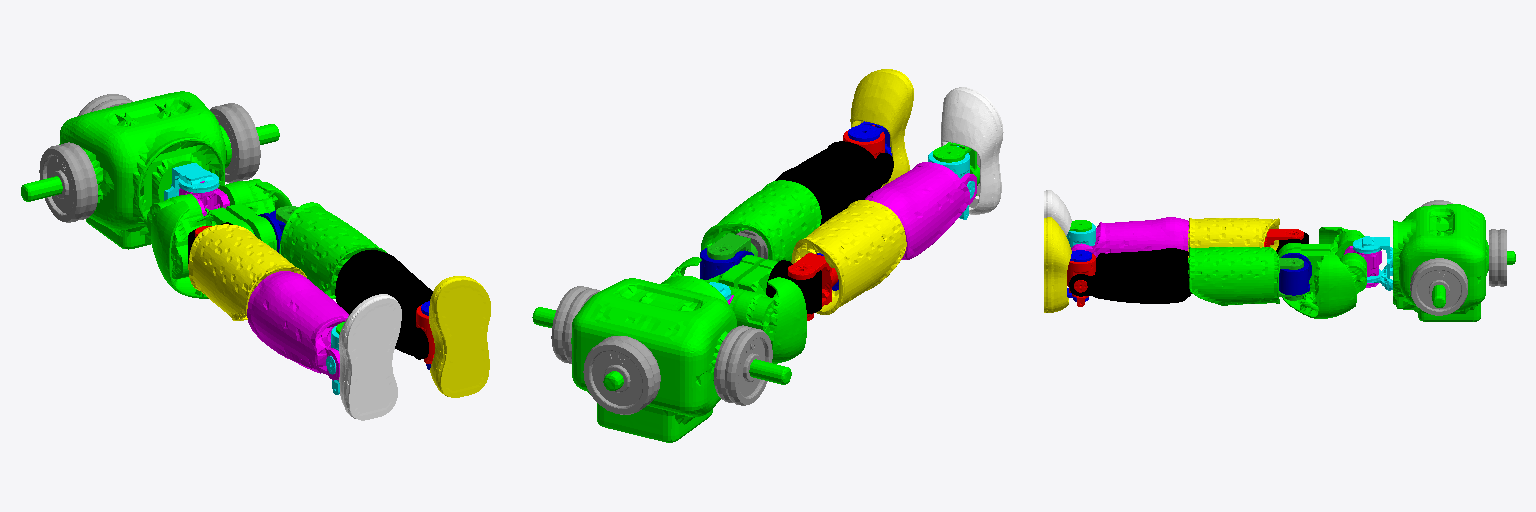
--- What the picture shows (computed from the rendered views, not written in the file) ---
Views: 3 orthographic renders of the robot side by side, from view 1: azimuth 30°, elevation 25°; view 2: azimuth 150°, elevation 25°; view 3: azimuth 270°, elevation 25°.
Model iCubHeidelberg01_SIM_MODEL with 72 links and 71 joints (15 revolute, 56 fixed), rooted at root_link, posed all joints at 0.
Links seen in each view (by area): view 1: chest, r_shank, root_link, l_foot, r_foot, r_thigh, l_shank, l_thigh, WEIGHT-1KG-5, WEIGHT-1KG, lap_belt_2, WEIGHT-1KG-4 (+2 smaller); view 2: chest, r_thigh, root_link, r_shank, l_thigh, l_shank, r_foot, l_foot, WEIGHT-1KG-3, WEIGHT-1KG-5, r_hip_2, r_hip_1 (+9 smaller); view 3: chest, l_shank, l_thigh, root_link, r_shank, r_thigh, WEIGHT-1KG-1, l_foot, lap_belt_2, l_hip_1, r_foot, l_ankle.
Link boxes in pixels (x1,y1,x2,y2): chest: (21, 91, 279, 249); r_shank: (247, 271, 348, 380); root_link: (147, 179, 291, 298); l_foot: (429, 276, 490, 397); r_foot: (338, 294, 401, 420); r_thigh: (188, 224, 306, 320); l_shank: (335, 250, 432, 359); l_thigh: (279, 202, 386, 298); WEIGHT-1KG-5: (39, 145, 87, 222); WEIGHT-1KG: (210, 105, 249, 182); lap_belt_2: (164, 163, 219, 200); WEIGHT-1KG-4: (61, 142, 97, 219); chest: (532, 276, 791, 442); r_thigh: (791, 200, 906, 314); root_link: (668, 255, 806, 363); r_shank: (865, 162, 976, 259); l_thigh: (700, 180, 821, 261); l_shank: (775, 141, 893, 225); r_foot: (941, 87, 1003, 214); l_foot: (850, 69, 913, 187); WEIGHT-1KG-3: (583, 340, 654, 414); WEIGHT-1KG-5: (725, 328, 772, 405); r_hip_2: (788, 253, 838, 320); r_hip_1: (766, 260, 821, 313); chest: (1393, 204, 1515, 321); l_shank: (1069, 248, 1191, 303); l_thigh: (1188, 247, 1279, 305); root_link: (1278, 227, 1366, 318); r_shank: (1071, 217, 1188, 257); r_thigh: (1188, 218, 1279, 257); WEIGHT-1KG-1: (1410, 262, 1467, 315); l_foot: (1044, 217, 1071, 312); lap_belt_2: (1353, 236, 1392, 290); l_hip_1: (1279, 253, 1311, 295); r_foot: (1044, 190, 1071, 235); l_ankle: (1067, 254, 1095, 306).
Bounding box of the posed robot: 0.44 × 0.9696 × 0.2347 m (x, y, z).
26 mesh visuals loaded from 21 distinct referenced files (21 Collada DAE).

robot.urdf — iCubHeidelberg01_SIM_MODEL:
<robot name="iCubHeidelberg01_SIM_MODEL">
  <link name="root_link">
    <inertial>
      <origin xyz="-0.000175548 -0.0820671 -0.0679103" rpy="0 0 0"/>
      <mass value="4.55132"/>
      <inertia ixx="0.0133835" ixy="3.22057e-05" ixz="-6.77957e-05" iyy="0.0178931" iyz="-0.00175809" izz="0.020903"/>
    </inertial>
    <visual>
      <origin xyz="0 0 0" rpy="0 0 0"/>
      <geometry>
        <mesh filename="model://iCubHeidelberg01_model/dae_meshes/sim_sea_root_link_prt.dae" scale="0.001 0.001 0.001"/>
      </geometry>
      <material name="green">
        <color rgba="0 1 0 1"/>
      </material>
    </visual>
    <collision>
      <origin xyz="0 0 0" rpy="0 0 0"/>
      <geometry>
        <mesh filename="model://iCubHeidelberg01_model/dae_meshes/sim_sea_root_link_prt.dae" scale="0.001 0.001 0.001"/>
      </geometry>
    </collision>
  </link>
  <link name="SCSYS_EMS_ACCEL"/>
  <joint name="SCSYS_EMS_ACCEL_fixed_joint" type="fixed">
    <origin xyz="0.0125771 -0.147691 -0.0857308" rpy="3.14159265359 -0.279252281769 -1.57079632679"/>
    <parent link="root_link"/>
    <child link="SCSYS_EMS_ACCEL"/>
    <dynamics damping="0.1"/>
  </joint>
  <link name="SCSYS_EMS_GYRO"/>
  <joint name="SCSYS_EMS_GYRO_fixed_joint" type="fixed">
    <origin xyz="0.013081 -0.152086 -0.0844705" rpy="3.14159265359 -0.279252281769 -1.57079632679"/>
    <parent link="root_link"/>
    <child link="SCSYS_EMS_GYRO"/>
    <dynamics damping="0.1"/>
  </joint>
  <link name="SCSYS_EMS_GYRO_1"/>
  <joint name="SCSYS_EMS_GYRO_1_fixed_joint" type="fixed">
    <origin xyz="0.013081 -0.152086 -0.0844705" rpy="3.14159265359 -0.279252281769 -1.57079632679"/>
    <parent link="root_link"/>
    <child link="SCSYS_EMS_GYRO_1"/>
    <dynamics damping="0.1"/>
  </joint>
  <link name="SCSYS_EMS_ACCEL_1"/>
  <joint name="SCSYS_EMS_ACCEL_1_fixed_joint" type="fixed">
    <origin xyz="0.013081 -0.152086 -0.0844705" rpy="3.14159265359 -0.279252281769 -1.57079632679"/>
    <parent link="root_link"/>
    <child link="SCSYS_EMS_ACCEL_1"/>
    <dynamics damping="0.1"/>
  </joint>
  <link name="r_hip_1">
    <inertial>
      <origin xyz="-0.0344199 -2.6e-05 -0.0002121" rpy="0 0 0"/>
      <mass value="0.610394"/>
      <inertia ixx="0.000304601" ixy="7.97583e-07" ixz="-2.29911e-07" iyy="0.000454222" iyz="1.14938e-06" izz="0.000453573"/>
    </inertial>
    <visual>
      <origin xyz="0.0262461 0.151913 0.0428515000001" rpy="0 0 0"/>
      <geometry>
        <mesh filename="model://iCubHeidelberg01_model/dae_meshes/sim_sea_r_hip_1_prt.dae" scale="0.001 0.001 0.001"/>
      </geometry>
      <material name="black">
        <color rgba="0 0 0 1"/>
      </material>
    </visual>
    <collision>
      <origin xyz="0.0262461 0.151913 0.0428515000001" rpy="0 0 0"/>
      <geometry>
        <mesh filename="model://iCubHeidelberg01_model/dae_meshes/sim_sea_r_hip_1_prt.dae" scale="0.001 0.001 0.001"/>
      </geometry>
    </collision>
  </link>
  <joint name="r_hip_pitch" type="revolute">
    <origin xyz="-0.0262461 -0.151913 -0.0428515" rpy="0 0 0"/>
    <axis xyz="-1.0 -0.0 -0.0"/>
    <parent link="root_link"/>
    <child link="r_hip_1"/>
    <limit effort="50000" lower="-0.523598775598" upper="1.4835298642" velocity="50000"/>
    <dynamics damping="0.223"/>
  </joint>
  <link name="r_hip_2">
    <inertial>
      <origin xyz="-1.5e-06 -0.03665 0.0231604" rpy="0 0 0"/>
      <mass value="0.292811"/>
      <inertia ixx="0.000410194" ixy="1.58042e-08" ixz="6.95352e-09" iyy="0.000232087" iyz="2.60468e-05" izz="0.000252169"/>
    </inertial>
    <visual>
      <origin xyz="0.0701 0.151913 0.0690985998094" rpy="0 0 0"/>
      <geometry>
        <mesh filename="model://iCubHeidelberg01_model/dae_meshes/sim_sea_r_hip_2_prt.dae" scale="0.001 0.001 0.001"/>
      </geometry>
      <material name="red">
        <color rgba="1 0 0 1"/>
      </material>
    </visual>
    <collision>
      <origin xyz="0.0701 0.151913 0.0690985998094" rpy="0 0 0"/>
      <geometry>
        <mesh filename="model://iCubHeidelberg01_model/dae_meshes/sim_sea_r_hip_2_prt.dae" scale="0.001 0.001 0.001"/>
      </geometry>
    </collision>
  </link>
  <joint name="r_hip_roll" type="revolute">
    <origin xyz="-0.0438539 0 -0.0262471" rpy="0 0 0"/>
    <axis xyz="0.0 0.0 -1.0"/>
    <parent link="r_hip_1"/>
    <child link="r_hip_2"/>
    <limit effort="50000" lower="0.0" upper="1.57079632679" velocity="50000"/>
    <dynamics damping="0.223"/>
  </joint>
  <link name="r_upper_thigh">
    <inertial>
      <origin xyz="-0.0699184 -0.234474 -0.0438122998094" rpy="0 0 0"/>
      <mass value="0.122687"/>
      <inertia ixx="3.09316e-05" ixy="2.08202e-07" ixz="-1.99589e-08" iyy="5.53314e-05" iyz="9.22295e-09" izz="3.08107e-05"/>
    </inertial>
    <visual>
      <origin xyz="0 0 0" rpy="0 0 0"/>
      <geometry>
        <mesh filename="model://iCubHeidelberg01_model/dae_meshes/sim_sea_r_upper_thigh_prt.dae" scale="0.001 0.001 0.001"/>
      </geometry>
      <material name="blue">
        <color rgba="0 0 1 1"/>
      </material>
    </visual>
    <collision>
      <origin xyz="0 0 0" rpy="0 0 0"/>
      <geometry>
        <mesh filename="model://iCubHeidelberg01_model/dae_meshes/sim_sea_r_upper_thigh_prt.dae" scale="0.001 0.001 0.001"/>
      </geometry>
    </collision>
  </link>
  <joint name="r_leg_ft_sensor" type="fixed">
    <origin xyz="0.0701 0.151913 0.0690985998094" rpy="0 0 0"/>
    <parent link="r_hip_2"/>
    <child link="r_upper_thigh"/>
    <dynamics damping="0.1"/>
  </joint>
  <link name="r_thigh">
    <inertial>
      <origin xyz="-0.0001448 -0.065088 0.0091078" rpy="0 0 0"/>
      <mass value="2.82909"/>
      <inertia ixx="0.00961828" ixy="0.000277522" ixz="7.45373e-06" iyy="0.00385108" iyz="-0.000180645" izz="0.00968964"/>
    </inertial>
    <visual>
      <origin xyz="0.0701 0.241013 0.0437089998094" rpy="0 0 0"/>
      <geometry>
        <mesh filename="model://iCubHeidelberg01_model/dae_meshes/sim_sea_r_thigh_prt.dae" scale="0.001 0.001 0.001"/>
      </geometry>
      <material name="yellow">
        <color rgba="1 1 0 1"/>
      </material>
    </visual>
    <collision>
      <origin xyz="0.0701 0.241013 0.0437089998094" rpy="0 0 0"/>
      <geometry>
        <mesh filename="model://iCubHeidelberg01_model/dae_meshes/sim_sea_r_thigh_prt.dae" scale="0.001 0.001 0.001"/>
      </geometry>
    </collision>
  </link>
  <joint name="r_hip_yaw" type="revolute">
    <origin xyz="-0.0701 -0.244213 -0.0437089998094" rpy="0 0 0"/>
    <axis xyz="0.0 -1.0 0.0"/>
    <parent link="r_upper_thigh"/>
    <child link="r_thigh"/>
    <limit effort="50000" lower="-1.2217304764" upper="1.2217304764" velocity="50000"/>
    <dynamics damping="0.223"/>
  </joint>
  <link name="SCSYS_EMS_ACCEL0"/>
  <joint name="SCSYS_EMS_ACCEL0_fixed_joint" type="fixed">
    <origin xyz="0.0404072 -0.040027 -0.0125751" rpy="1.57079632679 0 1.57079632679"/>
    <parent link="r_thigh"/>
    <child link="SCSYS_EMS_ACCEL0"/>
    <dynamics damping="0.1"/>
  </joint>
  <link name="SCSYS_EMS_GYRO0"/>
  <joint name="SCSYS_EMS_GYRO0_fixed_joint" type="fixed">
    <origin xyz="0.0404072 -0.035455 -0.013079" rpy="1.57079632679 0 1.57079632679"/>
    <parent link="r_thigh"/>
    <child link="SCSYS_EMS_GYRO0"/>
    <dynamics damping="0.1"/>
  </joint>
  <link name="SCSYS_EMS_ACCEL_10"/>
  <joint name="SCSYS_EMS_ACCEL_10_fixed_joint" type="fixed">
    <origin xyz="-0.040407 -0.083207 -0.0125771" rpy="1.57079632679 0 -1.57079632679"/>
    <parent link="r_thigh"/>
    <child link="SCSYS_EMS_ACCEL_10"/>
    <dynamics damping="0.1"/>
  </joint>
  <link name="SCSYS_EMS_GYRO_10"/>
  <joint name="SCSYS_EMS_GYRO_10_fixed_joint" type="fixed">
    <origin xyz="-0.040407 -0.087779 -0.013081" rpy="1.57079632679 0 -1.57079632679"/>
    <parent link="r_thigh"/>
    <child link="SCSYS_EMS_GYRO_10"/>
    <dynamics damping="0.1"/>
  </joint>
  <link name="SCSYS_MTB_ACCEL"/>
  <joint name="SCSYS_MTB_ACCEL_fixed_joint" type="fixed">
    <origin xyz="0.0414996 -0.011459 0.03416985" rpy="-1.18682376736 0.000365167547861 -1.57082213412"/>
    <parent link="r_thigh"/>
    <child link="SCSYS_MTB_ACCEL"/>
    <dynamics damping="0.1"/>
  </joint>
  <link name="SCSYS_MTB_ACCEL_1"/>
  <joint name="SCSYS_MTB_ACCEL_1_fixed_joint" type="fixed">
    <origin xyz="0.0162386 -0.026366 -0.0437518" rpy="3.14159260377 0.000429089990404 -1.57091243007"/>
    <parent link="r_thigh"/>
    <child link="SCSYS_MTB_ACCEL_1"/>
    <dynamics damping="0.1"/>
  </joint>
  <link name="SCSYS_MTB_ACCEL_2"/>
  <joint name="SCSYS_MTB_ACCEL_2_fixed_joint" type="fixed">
    <origin xyz="-0.0157594 -0.026365 -0.0437518" rpy="3.14159265359 0.000429089993416 -1.57079632679"/>
    <parent link="r_thigh"/>
    <child link="SCSYS_MTB_ACCEL_2"/>
    <dynamics damping="0.1"/>
  </joint>
  <link name="SCSYS_MTB_ACCEL_3"/>
  <joint name="SCSYS_MTB_ACCEL_3_fixed_joint" type="fixed">
    <origin xyz="-0.049485 -0.064411 0.0117282" rpy="1.57079632679 0.000312931026869 -1.57079632679"/>
    <parent link="r_thigh"/>
    <child link="SCSYS_MTB_ACCEL_3"/>
    <dynamics damping="0.1"/>
  </joint>
  <link name="SCSYS_MTB_ACCEL_4"/>
  <joint name="SCSYS_MTB_ACCEL_4_fixed_joint" type="fixed">
    <origin xyz="-0.031565 0.042526 0.04206438" rpy="0.837758053214 0.000342816436844 -1.57071863125"/>
    <parent link="r_thigh"/>
    <child link="SCSYS_MTB_ACCEL_4"/>
    <dynamics damping="0.1"/>
  </joint>
  <link name="SCSYS_MTB_ACCEL_5"/>
  <joint name="SCSYS_MTB_ACCEL_5_fixed_joint" type="fixed">
    <origin xyz="-0.0083839 0.032642 0.05341396" rpy="0.26179934248 0.000399026344981 -1.5706841771"/>
    <parent link="r_thigh"/>
    <child link="SCSYS_MTB_ACCEL_5"/>
    <dynamics damping="0.1"/>
  </joint>
  <link name="SCSYS_MTB_ACCEL_6"/>
  <joint name="SCSYS_MTB_ACCEL_6_fixed_joint" type="fixed">
    <origin xyz="-0.0150686 -0.002429 0.0538284" rpy="0 0.000429089990404 -1.57068022352"/>
    <parent link="r_thigh"/>
    <child link="SCSYS_MTB_ACCEL_6"/>
    <dynamics damping="0.1"/>
  </joint>
  <link name="SCSYS_MTB_ACCEL_7"/>
  <joint name="SCSYS_MTB_ACCEL_7_fixed_joint" type="fixed">
    <origin xyz="0.0144314 -0.002429 0.0538284" rpy="0 0.000429089990404 -1.57068022352"/>
    <parent link="r_thigh"/>
    <child link="SCSYS_MTB_ACCEL_7"/>
    <dynamics damping="0.1"/>
  </joint>
  <link name="r_shank">
    <inertial>
      <origin xyz="0.0120744 -0.083027 0.0073589" rpy="0 0 0"/>
      <mass value="3.31111"/>
      <inertia ixx="0.0108069" ixy="0.000604622" ixz="5.98023e-06" iyy="0.00495004" iyz="-0.000693558" izz="0.0116311"/>
    </inertial>
    <visual>
      <origin xyz="0.0841895 0.386638 0.0437089998094" rpy="0 0 0"/>
      <geometry>
        <mesh filename="model://iCubHeidelberg01_model/dae_meshes/sim_sea_r_shank_prt.dae" scale="0.001 0.001 0.001"/>
      </geometry>
      <material name="pink">
        <color rgba="1 0 1 1"/>
      </material>
    </visual>
    <collision>
      <origin xyz="0.0841895 0.386638 0.0437089998094" rpy="0 0 0"/>
      <geometry>
        <mesh filename="model://iCubHeidelberg01_model/dae_meshes/sim_sea_r_shank_prt.dae" scale="0.001 0.001 0.001"/>
      </geometry>
    </collision>
  </link>
  <joint name="r_knee" type="revolute">
    <origin xyz="-0.0178895 -0.145625 0" rpy="0 0 0"/>
    <axis xyz="-1.0 0.0 0.0"/>
    <parent link="r_thigh"/>
    <child link="r_shank"/>
    <limit effort="50000" lower="-1.74532925199" upper="0.0" velocity="50000"/>
    <dynamics damping="0.223"/>
  </joint>
  <link name="SCSYS_EMS_ACCEL1"/>
  <joint name="SCSYS_EMS_ACCEL1_fixed_joint" type="fixed">
    <origin xyz="0.0279291 -0.092765 0.04351373" rpy="0 -0.218166543341 1.57079632679"/>
    <parent link="r_shank"/>
    <child link="SCSYS_EMS_ACCEL1"/>
    <dynamics damping="0.1"/>
  </joint>
  <link name="SCSYS_EMS_GYRO1"/>
  <joint name="SCSYS_EMS_GYRO1_fixed_joint" type="fixed">
    <origin xyz="0.028433 -0.088301 0.044503292" rpy="0 -0.218166543341 1.57079632679"/>
    <parent link="r_shank"/>
    <child link="SCSYS_EMS_GYRO1"/>
    <dynamics damping="0.1"/>
  </joint>
  <link name="SCSYS_MTB_ACCEL0"/>
  <joint name="SCSYS_MTB_ACCEL0_fixed_joint" type="fixed">
    <origin xyz="0.0278886 -0.010933 0.0544518" rpy="-0.349065638037 3.9709492862e-05 -1.57068722577"/>
    <parent link="r_shank"/>
    <child link="SCSYS_MTB_ACCEL0"/>
    <dynamics damping="0.1"/>
  </joint>
  <link name="SCSYS_MTB_ACCEL_10"/>
  <joint name="SCSYS_MTB_ACCEL_10_fixed_joint" type="fixed">
    <origin xyz="-0.0030927 -0.010933 0.05313395" rpy="0.244346164411 -2.808784262e-05 -1.57068367232"/>
    <parent link="r_shank"/>
    <child link="SCSYS_MTB_ACCEL_10"/>
    <dynamics damping="0.1"/>
  </joint>
  <link name="SCSYS_MTB_ACCEL_20"/>
  <joint name="SCSYS_MTB_ACCEL_20_fixed_joint" type="fixed">
    <origin xyz="-0.0286545 -0.050082 0.0259155" rpy="1.30899714456 -0.000143911236881 -1.57075776595"/>
    <parent link="r_shank"/>
    <child link="SCSYS_MTB_ACCEL_20"/>
    <dynamics damping="0.1"/>
  </joint>
  <link name="SCSYS_MTB_ACCEL_30"/>
  <joint name="SCSYS_MTB_ACCEL_30_fixed_joint" type="fixed">
    <origin xyz="0.0558086 -0.099573 0.0184576" rpy="-1.30899714532 0.000112146780783 -1.57076627686"/>
    <parent link="r_shank"/>
    <child link="SCSYS_MTB_ACCEL_30"/>
    <dynamics damping="0.1"/>
  </joint>
  <link name="r_ankle">
    <inertial>
      <origin xyz="0.0265327 7.4e-05 0.0150166" rpy="0 0 0"/>
      <mass value="0.554181"/>
      <inertia ixx="0.000368295" ixy="2.92938e-07" ixz="-1.37313e-05" iyy="0.000414394" iyz="1.75709e-06" izz="0.00028171"/>
    </inertial>
    <visual>
      <origin xyz="0.09712 0.587138 0.0437089998094" rpy="0 0 0"/>
      <geometry>
        <mesh filename="model://iCubHeidelberg01_model/dae_meshes/sim_sea_r_ankle_prt.dae" scale="0.001 0.001 0.001"/>
      </geometry>
      <material name="cyan">
        <color rgba="0 1 1 1"/>
      </material>
    </visual>
    <collision>
      <origin xyz="0.09712 0.587138 0.0437089998094" rpy="0 0 0"/>
      <geometry>
        <mesh filename="model://iCubHeidelberg01_model/dae_meshes/sim_sea_r_ankle_prt.dae" scale="0.001 0.001 0.001"/>
      </geometry>
    </collision>
  </link>
  <joint name="r_ankle_pitch" type="revolute">
    <origin xyz="-0.0129305 -0.2005 0" rpy="0 0 0"/>
    <axis xyz="1.0 0.0 0.0"/>
    <parent link="r_shank"/>
    <child link="r_ankle"/>
    <limit effort="50000" lower="-0.349065850399" upper="0.523598775598" velocity="50000"/>
    <dynamics damping="0.223"/>
  </joint>
  <link name="r_upper_foot">
    <inertial>
      <origin xyz="2.1e-06 -0.03381 -0.044405867" rpy="0 0 0"/>
      <mass value="0.224797"/>
      <inertia ixx="0.000317712" ixy="0.0" ixz="9.41219e-09" iyy="0.000243566" iyz="1.32865e-05" izz="0.000132578"/>
    </inertial>
    <visual>
      <origin xyz="0.0701 0.587138 -0.000853467381356" rpy="0 0 0"/>
      <geometry>
        <mesh filename="model://iCubHeidelberg01_model/dae_meshes/sim_sea_r_foot_prt.dae" scale="0.001 0.001 0.001"/>
      </geometry>
      <material name="green"/>
    </visual>
    <collision>
      <origin xyz="0.0701 0.587138 -0.000853467381356" rpy="0 0 0"/>
      <geometry>
        <mesh filename="model://iCubHeidelberg01_model/dae_meshes/sim_sea_r_foot_prt.dae" scale="0.001 0.001 0.001"/>
      </geometry>
    </collision>
  </link>
  <joint name="r_ankle_roll" type="revolute">
    <origin xyz="0.02702 0 0.044562467" rpy="0 0 0"/>
    <axis xyz="-0.0 -0.0 -1.0"/>
    <parent link="r_ankle"/>
    <child link="r_upper_foot"/>
    <limit effort="50000" lower="-0.349065850399" upper="0.349065850399" velocity="50000"/>
    <dynamics damping="0.223"/>
  </joint>
  <link name="r_foot">
    <inertial>
      <origin xyz="-0.0752084 -0.648957 -0.0103374996186" rpy="0 0 0"/>
      <mass value="0.907917"/>
      <inertia ixx="0.00297466" ixy="8.70649e-07" ixz="-0.000138843" iyy="0.00344276" iyz="-1.76747e-05" izz="0.000681043"/>
    </inertial>
    <visual>
      <origin xyz="0 0 0" rpy="0 0 0"/>
      <geometry>
        <mesh filename="model://iCubHeidelberg01_model/dae_meshes/sim_sea_r_sole_prt.dae" scale="0.001 0.001 0.001"/>
      </geometry>
      <material name="white">
        <color rgba="1 1 1 1"/>
      </material>
    </visual>
    <collision>
      <origin xyz="0 0 0" rpy="0 0 0"/>
      <geometry>
        <mesh filename="model://iCubHeidelberg01_model/dae_meshes/sim_sea_r_sole_prt.dae" scale="0.001 0.001 0.001"/>
      </geometry>
    </collision>
  </link>
  <joint name="r_foot_ft_sensor" type="fixed">
    <origin xyz="0.0701 0.587138 -0.000853467381377" rpy="0 0 0"/>
    <parent link="r_upper_foot"/>
    <child link="r_foot"/>
    <dynamics damping="0.1"/>
  </joint>
  <link name="SCSYS_MTB_ACCEL1"/>
  <joint name="SCSYS_MTB_ACCEL1_fixed_joint" type="fixed">
    <origin xyz="-0.069293 -0.646223 0.0562654003814" rpy="1.57079632679 0 0"/>
    <parent link="r_foot"/>
    <child link="SCSYS_MTB_ACCEL1"/>
    <dynamics damping="0.1"/>
  </joint>
  <link name="SCSYS_MTB_ACCEL_11"/>
  <joint name="SCSYS_MTB_ACCEL_11_fixed_joint" type="fixed">
    <origin xyz="-0.0582928 -0.646223 0.0312654003814" rpy="1.57079632679 0 0"/>
    <parent link="r_foot"/>
    <child link="SCSYS_MTB_ACCEL_11"/>
    <dynamics damping="0.1"/>
  </joint>
  <link name="l_hip_1">
    <inertial>
      <origin xyz="-0.086666 -2.60000000002e-05 0.0002121" rpy="0 0 0"/>
      <mass value="0.610394"/>
      <inertia ixx="0.000304601" ixy="7.97583e-07" ixz="-2.29911e-07" iyy="0.000454222" iyz="1.14938e-06" izz="0.000453573"/>
    </inertial>
    <visual>
      <origin xyz="-0.026 0.151913 -0.0428515" rpy="0 0 0"/>
      <geometry>
        <mesh filename="model://iCubHeidelberg01_model/dae_meshes/sim_sea_l_hip_1_prt.dae" scale="0.001 0.001 0.001"/>
      </geometry>
      <material name="dblue">
        <color rgba="0 0 0.8 1"/>
      </material>
    </visual>
    <collision>
      <origin xyz="-0.026 0.151913 -0.0428515" rpy="0 0 0"/>
      <geometry>
        <mesh filename="model://iCubHeidelberg01_model/dae_meshes/sim_sea_l_hip_1_prt.dae" scale="0.001 0.001 0.001"/>
      </geometry>
    </collision>
  </link>
  <joint name="l_hip_pitch" type="revolute">
    <origin xyz="-0.026 -0.151913 -0.0428515" rpy="3.14159265359 0 3.14159265359"/>
    <axis xyz="1.0 0.0 0.0"/>
    <parent link="root_link"/>
    <child link="l_hip_1"/>
    <limit effort="50000" lower="-0.523598775598" upper="1.4835298642" velocity="50000"/>
    <dynamics damping="0.223"/>
  </joint>
  <link name="l_hip_2">
    <inertial>
      <origin xyz="-1.5e-06 -0.03665 -0.0231604" rpy="0 0 0"/>
      <mass value="0.292811"/>
      <inertia ixx="0.000410194" ixy="1.58042e-08" ixz="6.95352e-09" iyy="0.000232087" iyz="2.60468e-05" izz="0.000252169"/>
    </inertial>
    <visual>
      <origin xyz="0.0701 0.151913 -0.0690985998093" rpy="0 0 0"/>
      <geometry>
        <mesh filename="model://iCubHeidelberg01_model/dae_meshes/sim_sea_l_hip_2_prt.dae" scale="0.001 0.001 0.001"/>
      </geometry>
      <material name="dgreen">
        <color rgba="0.1 0.8 0.1 1"/>
      </material>
    </visual>
    <collision>
      <origin xyz="0.0701 0.151913 -0.0690985998093" rpy="0 0 0"/>
      <geometry>
        <mesh filename="model://iCubHeidelberg01_model/dae_meshes/sim_sea_l_hip_2_prt.dae" scale="0.001 0.001 0.001"/>
      </geometry>
    </collision>
  </link>
  <joint name="l_hip_roll" type="revolute">
    <origin xyz="-0.0961 0 0.0262471" rpy="0 0 0"/>
    <axis xyz="-0.0 1.26404e-12 -1.0"/>
    <parent link="l_hip_1"/>
    <child link="l_hip_2"/>
    <limit effort="50000" lower="0.0" upper="1.57079632679" velocity="50000"/>
    <dynamics damping="0.223"/>
  </joint>
  <link name="l_upper_thigh">
    <inertial>
      <origin xyz="-0.0699184 -0.234474 0.0438122998092" rpy="0 0 0"/>
      <mass value="0.122687"/>
      <inertia ixx="3.09316e-05" ixy="2.08202e-07" ixz="-1.99589e-08" iyy="5.53314e-05" iyz="9.22295e-09" izz="3.08107e-05"/>
    </inertial>
    <visual>
      <origin xyz="0 0 0" rpy="0 0 0"/>
      <geometry>
        <mesh filename="model://iCubHeidelberg01_model/dae_meshes/sim_sea_l_upper_thigh_prt.dae" scale="0.001 0.001 0.001"/>
      </geometry>
      <material name="gray">
        <color rgba="0.5 0.5 0.5 1"/>
      </material>
    </visual>
    <collision>
      <origin xyz="0 0 0" rpy="0 0 0"/>
      <geometry>
        <mesh filename="model://iCubHeidelberg01_model/dae_meshes/sim_sea_l_upper_thigh_prt.dae" scale="0.001 0.001 0.001"/>
      </geometry>
    </collision>
  </link>
  <joint name="l_leg_ft_sensor" type="fixed">
    <origin xyz="0.0701 0.151913 -0.0690985998093" rpy="0 0 0"/>
    <parent link="l_hip_2"/>
    <child link="l_upper_thigh"/>
    <dynamics damping="0.1"/>
  </joint>
  <link name="l_thigh">
    <inertial>
      <origin xyz="-0.0001448 -0.065088 -0.00910780000008" rpy="0 0 0"/>
      <mass value="2.82909"/>
      <inertia ixx="0.00961828" ixy="0.000277522" ixz="7.45373e-06" iyy="0.00385108" iyz="-0.000180645" izz="0.00968964"/>
    </inertial>
    <visual>
      <origin xyz="0.0701 0.241013 -0.0437089998092" rpy="0 0 0"/>
      <geometry>
        <mesh filename="model://iCubHeidelberg01_model/dae_meshes/sim_sea_l_thigh_prt.dae" scale="0.001 0.001 0.001"/>
      </geometry>
      <material name="green"/>
    </visual>
    <collision>
      <origin xyz="0.0701 0.241013 -0.0437089998092" rpy="0 0 0"/>
      <geometry>
        <mesh filename="model://iCubHeidelberg01_model/dae_meshes/sim_sea_l_thigh_prt.dae" scale="0.001 0.001 0.001"/>
      </geometry>
    </collision>
  </link>
  <joint name="l_hip_yaw" type="revolute">
    <origin xyz="-0.0701 -0.244213 0.0437089998092" rpy="0 0 0"/>
    <axis xyz="-0.0 1.0 1.22451e-12"/>
    <parent link="l_upper_thigh"/>
    <child link="l_thigh"/>
    <limit effort="50000" lower="-1.2217304764" upper="1.2217304764" velocity="50000"/>
    <dynamics damping="0.223"/>
  </joint>
  <link name="SCSYS_EMS_ACCEL2"/>
  <joint name="SCSYS_EMS_ACCEL2_fixed_joint" type="fixed">
    <origin xyz="0.0404072 -0.040027 0.0125751" rpy="-1.57079632679 0 1.57079632679"/>
    <parent link="l_thigh"/>
    <child link="SCSYS_EMS_ACCEL2"/>
    <dynamics damping="0.1"/>
  </joint>
  <link name="SCSYS_EMS_GYRO2"/>
  <joint name="SCSYS_EMS_GYRO2_fixed_joint" type="fixed">
    <origin xyz="0.0404072 -0.035455 0.013079" rpy="-1.57079632679 0 1.57079632679"/>
    <parent link="l_thigh"/>
    <child link="SCSYS_EMS_GYRO2"/>
    <dynamics damping="0.1"/>
  </joint>
  <link name="SCSYS_EMS_ACCEL_11"/>
  <joint name="SCSYS_EMS_ACCEL_11_fixed_joint" type="fixed">
    <origin xyz="-0.040407 -0.083207 0.0125770999999" rpy="-1.57079632679 0 -1.57079632679"/>
    <parent link="l_thigh"/>
    <child link="SCSYS_EMS_ACCEL_11"/>
    <dynamics damping="0.1"/>
  </joint>
  <link name="SCSYS_EMS_GYRO_11"/>
  <joint name="SCSYS_EMS_GYRO_11_fixed_joint" type="fixed">
    <origin xyz="-0.040407 -0.087779 0.0130809999999" rpy="-1.57079632679 0 -1.57079632679"/>
    <parent link="l_thigh"/>
    <child link="SCSYS_EMS_GYRO_11"/>
    <dynamics damping="0.1"/>
  </joint>
  <link name="SCSYS_MTB_ACCEL2"/>
  <joint name="SCSYS_MTB_ACCEL2_fixed_joint" type="fixed">
    <origin xyz="0.0414996 -0.011459 -0.03416985" rpy="1.18682376736 -0.000365167546644 -1.57082213412"/>
    <parent link="l_thigh"/>
    <child link="SCSYS_MTB_ACCEL2"/>
    <dynamics damping="0.1"/>
  </joint>
  <link name="SCSYS_MTB_ACCEL_12"/>
  <joint name="SCSYS_MTB_ACCEL_12_fixed_joint" type="fixed">
    <origin xyz="0.0162386 -0.0263660000001 0.0437518" rpy="-3.14159260377 -0.000429089989188 -1.57091243007"/>
    <parent link="l_thigh"/>
    <child link="SCSYS_MTB_ACCEL_12"/>
    <dynamics damping="0.1"/>
  </joint>
  <link name="SCSYS_MTB_ACCEL_21"/>
  <joint name="SCSYS_MTB_ACCEL_21_fixed_joint" type="fixed">
    <origin xyz="-0.0157594 -0.0263650000001 0.0437518" rpy="3.14159265359 -0.0004290899922 -1.57079632679"/>
    <parent link="l_thigh"/>
    <child link="SCSYS_MTB_ACCEL_21"/>
    <dynamics damping="0.1"/>
  </joint>
  <link name="SCSYS_MTB_ACCEL_31"/>
  <joint name="SCSYS_MTB_ACCEL_31_fixed_joint" type="fixed">
    <origin xyz="-0.049485 -0.064411 -0.0117282000001" rpy="-1.57079632679 -0.000312931025653 -1.57079632679"/>
    <parent link="l_thigh"/>
    <child link="SCSYS_MTB_ACCEL_31"/>
    <dynamics damping="0.1"/>
  </joint>
  <link name="SCSYS_MTB_ACCEL_40"/>
  <joint name="SCSYS_MTB_ACCEL_40_fixed_joint" type="fixed">
    <origin xyz="-0.031565 0.0425260000001 -0.0420643799999" rpy="-0.837758053858 -0.000342790748128 -1.57071863707"/>
    <parent link="l_thigh"/>
    <child link="SCSYS_MTB_ACCEL_40"/>
    <dynamics damping="0.1"/>
  </joint>
  <link name="SCSYS_MTB_ACCEL_50"/>
  <joint name="SCSYS_MTB_ACCEL_50_fixed_joint" type="fixed">
    <origin xyz="-0.0083839 0.0326420000001 -0.05341396" rpy="-0.26179934248 -0.000399026343764 -1.5706841771"/>
    <parent link="l_thigh"/>
    <child link="SCSYS_MTB_ACCEL_50"/>
    <dynamics damping="0.1"/>
  </joint>
  <link name="SCSYS_MTB_ACCEL_60"/>
  <joint name="SCSYS_MTB_ACCEL_60_fixed_joint" type="fixed">
    <origin xyz="-0.0150686 -0.00242899999993 -0.0538284" rpy="0 -0.000429089989188 -1.57068022352"/>
    <parent link="l_thigh"/>
    <child link="SCSYS_MTB_ACCEL_60"/>
    <dynamics damping="0.1"/>
  </joint>
  <link name="SCSYS_MTB_ACCEL_70"/>
  <joint name="SCSYS_MTB_ACCEL_70_fixed_joint" type="fixed">
    <origin xyz="0.0144314 -0.00242899999993 -0.0538284" rpy="0 -0.000429089989188 -1.57068022352"/>
    <parent link="l_thigh"/>
    <child link="SCSYS_MTB_ACCEL_70"/>
    <dynamics damping="0.1"/>
  </joint>
  <link name="l_shank">
    <inertial>
      <origin xyz="0.0120744 -0.083027 -0.0073589000001" rpy="0 0 0"/>
      <mass value="3.31111"/>
      <inertia ixx="0.0108069" ixy="0.000604622" ixz="5.98023e-06" iyy="0.00495004" iyz="-0.000693558" izz="0.0116311"/>
    </inertial>
    <visual>
      <origin xyz="0.0841895 0.386638 -0.043708999809" rpy="0 0 0"/>
      <geometry>
        <mesh filename="model://iCubHeidelberg01_model/dae_meshes/sim_sea_l_shank_prt.dae" scale="0.001 0.001 0.001"/>
      </geometry>
      <material name="black"/>
    </visual>
    <collision>
      <origin xyz="0.0841895 0.386638 -0.043708999809" rpy="0 0 0"/>
      <geometry>
        <mesh filename="model://iCubHeidelberg01_model/dae_meshes/sim_sea_l_shank_prt.dae" scale="0.001 0.001 0.001"/>
      </geometry>
    </collision>
  </link>
  <joint name="l_knee" type="revolute">
    <origin xyz="-0.0178895 -0.145625 0" rpy="0 0 0"/>
    <axis xyz="1.0 0.0 0.0"/>
    <parent link="l_thigh"/>
    <child link="l_shank"/>
    <limit effort="50000" lower="-1.74532925199" upper="0.0" velocity="50000"/>
    <dynamics damping="0.223"/>
  </joint>
  <link name="SCSYS_EMS_ACCEL3"/>
  <joint name="SCSYS_EMS_ACCEL3_fixed_joint" type="fixed">
    <origin xyz="0.0279291 -0.0927649999999 -0.0435137300001" rpy="0 0.21816654334 1.57079632679"/>
    <parent link="l_shank"/>
    <child link="SCSYS_EMS_ACCEL3"/>
    <dynamics damping="0.1"/>
  </joint>
  <link name="SCSYS_EMS_GYRO3"/>
  <joint name="SCSYS_EMS_GYRO3_fixed_joint" type="fixed">
    <origin xyz="0.028433 -0.0883009999999 -0.0445032920001" rpy="0 0.21816654334 1.57079632679"/>
    <parent link="l_shank"/>
    <child link="SCSYS_EMS_GYRO3"/>
    <dynamics damping="0.1"/>
  </joint>
  <link name="SCSYS_MTB_ACCEL3"/>
  <joint name="SCSYS_MTB_ACCEL3_fixed_joint" type="fixed">
    <origin xyz="0.0278886 -0.0109329999999 -0.0544518" rpy="0.349065638036 -3.97094922217e-05 -1.57068722577"/>
    <parent link="l_shank"/>
    <child link="SCSYS_MTB_ACCEL3"/>
    <dynamics damping="0.1"/>
  </joint>
  <link name="SCSYS_MTB_ACCEL_13"/>
  <joint name="SCSYS_MTB_ACCEL_13_fixed_joint" type="fixed">
    <origin xyz="-0.0030927 -0.0109329999999 -0.05313395" rpy="-0.244346164411 2.80878432373e-05 -1.57068367232"/>
    <parent link="l_shank"/>
    <child link="SCSYS_MTB_ACCEL_13"/>
    <dynamics damping="0.1"/>
  </joint>
  <link name="SCSYS_MTB_ACCEL_22"/>
  <joint name="SCSYS_MTB_ACCEL_22_fixed_joint" type="fixed">
    <origin xyz="-0.0286545 -0.050082 -0.0259155000001" rpy="-1.30899714456 0.000143911238098 -1.57075776595"/>
    <parent link="l_shank"/>
    <child link="SCSYS_MTB_ACCEL_22"/>
    <dynamics damping="0.1"/>
  </joint>
  <link name="SCSYS_MTB_ACCEL_32"/>
  <joint name="SCSYS_MTB_ACCEL_32_fixed_joint" type="fixed">
    <origin xyz="0.0558086 -0.099573 -0.0184576000001" rpy="1.30899714532 -0.000112146779566 -1.57076627686"/>
    <parent link="l_shank"/>
    <child link="SCSYS_MTB_ACCEL_32"/>
    <dynamics damping="0.1"/>
  </joint>
  <link name="l_ankle">
    <inertial>
      <origin xyz="0.0265327 7.40000000186e-05 -0.0150166" rpy="0 0 0"/>
      <mass value="0.554181"/>
      <inertia ixx="0.000368295" ixy="2.92938e-07" ixz="-1.37313e-05" iyy="0.000414394" iyz="1.75709e-06" izz="0.00028171"/>
    </inertial>
    <visual>
      <origin xyz="0.09712 0.587138 -0.0437089998087" rpy="0 0 0"/>
      <geometry>
        <mesh filename="model://iCubHeidelberg01_model/dae_meshes/sim_sea_l_ankle_prt.dae" scale="0.001 0.001 0.001"/>
      </geometry>
      <material name="red"/>
    </visual>
    <collision>
      <origin xyz="0.09712 0.587138 -0.0437089998087" rpy="0 0 0"/>
      <geometry>
        <mesh filename="model://iCubHeidelberg01_model/dae_meshes/sim_sea_l_ankle_prt.dae" scale="0.001 0.001 0.001"/>
      </geometry>
    </collision>
  </link>
  <joint name="l_ankle_pitch" type="revolute">
    <origin xyz="-0.0129305 -0.2005 0" rpy="0 0 0"/>
    <axis xyz="-1.0 0.0 0.0"/>
    <parent link="l_shank"/>
    <child link="l_ankle"/>
    <limit effort="50000" lower="-0.349065850399" upper="0.523598775598" velocity="50000"/>
    <dynamics damping="0.223"/>
  </joint>
  <link name="l_upper_foot">
    <inertial>
      <origin xyz="2.1e-06 -0.0338100000001 0.044405867" rpy="0 0 0"/>
      <mass value="0.224797"/>
      <inertia ixx="0.000317712" ixy="0.0" ixz="9.41219e-09" iyy="0.000243566" iyz="1.32865e-05" izz="0.000132578"/>
    </inertial>
    <visual>
      <origin xyz="0.0701 0.587138 0.000853467382004" rpy="0 0 0"/>
      <geometry>
        <mesh filename="model://iCubHeidelberg01_model/dae_meshes/sim_sea_l_foot_prt.dae" scale="0.001 0.001 0.001"/>
      </geometry>
      <material name="blue"/>
    </visual>
    <collision>
      <origin xyz="0.0701 0.587138 0.000853467382004" rpy="0 0 0"/>
      <geometry>
        <mesh filename="model://iCubHeidelberg01_model/dae_meshes/sim_sea_l_foot_prt.dae" scale="0.001 0.001 0.001"/>
      </geometry>
    </collision>
  </link>
  <joint name="l_ankle_roll" type="revolute">
    <origin xyz="0.02702 0 -0.044562467" rpy="0 0 0"/>
    <axis xyz="-0.0 1.23785e-12 -1.0"/>
    <parent link="l_ankle"/>
    <child link="l_upper_foot"/>
    <limit effort="50000" lower="-0.349065850399" upper="0.349065850399" velocity="50000"/>
    <dynamics damping="0.223"/>
  </joint>
  <link name="l_foot">
    <inertial>
      <origin xyz="-0.0752084 -0.648957 0.0103374996179" rpy="0 0 0"/>
      <mass value="0.907917"/>
      <inertia ixx="0.00297466" ixy="8.70649e-07" ixz="-0.000138843" iyy="0.00344276" iyz="-1.76747e-05" izz="0.000681043"/>
    </inertial>
    <visual>
      <origin xyz="0 0 0" rpy="0 0 0"/>
      <geometry>
        <mesh filename="model://iCubHeidelberg01_model/dae_meshes/sim_sea_l_sole_prt.dae" scale="0.001 0.001 0.001"/>
      </geometry>
      <material name="yellow"/>
    </visual>
    <collision>
      <origin xyz="0 0 0" rpy="0 0 0"/>
      <geometry>
        <mesh filename="model://iCubHeidelberg01_model/dae_meshes/sim_sea_l_sole_prt.dae" scale="0.001 0.001 0.001"/>
      </geometry>
    </collision>
  </link>
  <joint name="l_foot_ft_sensor" type="fixed">
    <origin xyz="0.0701 0.587138 0.000853467382024" rpy="0 0 0"/>
    <parent link="l_upper_foot"/>
    <child link="l_foot"/>
    <dynamics damping="0.1"/>
  </joint>
  <link name="SCSYS_MTB_ACCEL4"/>
  <joint name="SCSYS_MTB_ACCEL4_fixed_joint" type="fixed">
    <origin xyz="-0.069293 -0.646223 -0.0562654003821" rpy="-1.57079632679 0 0"/>
    <parent link="l_foot"/>
    <child link="SCSYS_MTB_ACCEL4"/>
    <dynamics damping="0.1"/>
  </joint>
  <link name="SCSYS_MTB_ACCEL_14"/>
  <joint name="SCSYS_MTB_ACCEL_14_fixed_joint" type="fixed">
    <origin xyz="-0.0582928 -0.646223 -0.0312654003821" rpy="-1.57079632679 0 0"/>
    <parent link="l_foot"/>
    <child link="SCSYS_MTB_ACCEL_14"/>
    <dynamics damping="0.1"/>
  </joint>
  <link name="lap_belt_1">
    <inertial>
      <origin xyz="0.039241235 0.0281103000005 -0.00332089999546" rpy="0 0 0"/>
      <mass value="0.479404"/>
      <inertia ixx="0.000332949" ixy="-2.39782e-06" ixz="3.60866e-07" iyy="0.000309732" iyz="1.13592e-05" izz="0.000223739"/>
    </inertial>
    <visual>
      <origin xyz="0.0393999998093 0.032 0.0364" rpy="0 0 0"/>
      <geometry>
        <mesh filename="model://iCubHeidelberg01_model/dae_meshes/sim_sea_lap_belt_1_prt.dae" scale="0.001 0.001 0.001"/>
      </geometry>
      <material name="pink"/>
    </visual>
    <collision>
      <origin xyz="0.0393999998093 0.032 0.0364" rpy="0 0 0"/>
      <geometry>
        <mesh filename="model://iCubHeidelberg01_model/dae_meshes/sim_sea_lap_belt_1_prt.dae" scale="0.001 0.001 0.001"/>
      </geometry>
    </collision>
  </link>
  <joint name="torso_pitch" type="revolute">
    <origin xyz="-0.0394 -0.032 -0.0364" rpy="0 0 0"/>
    <axis xyz="1.0 0.0 0.0"/>
    <parent link="root_link"/>
    <child link="lap_belt_1"/>
    <limit effort="50000" lower="-0.349065850399" upper="1.2217304764" velocity="50000"/>
    <dynamics damping="0.06"/>
  </joint>
  <link name="lap_belt_2">
    <inertial>
      <origin xyz="-0.000107779809265 0.0247916000001 0.053524900004" rpy="0 0 0"/>
      <mass value="0.327897"/>
      <inertia ixx="0.000531991" ixy="5.54439e-07" ixz="-2.83073e-07" iyy="0.00042219" iyz="2.9326e-05" izz="0.000303736"/>
    </inertial>
    <visual>
      <origin xyz="0 0 0.0902389999948" rpy="0 0 0"/>
      <geometry>
        <mesh filename="model://iCubHeidelberg01_model/dae_meshes/sim_kor_lap_belt_2_prt.dae" scale="0.001 0.001 0.001"/>
      </geometry>
      <material name="cyan"/>
    </visual>
    <collision>
      <origin xyz="0 0 0.0902389999948" rpy="0 0 0"/>
      <geometry>
        <mesh filename="model://iCubHeidelberg01_model/dae_meshes/sim_kor_lap_belt_2_prt.dae" scale="0.001 0.001 0.001"/>
      </geometry>
    </collision>
  </link>
  <joint name="torso_roll" type="revolute">
    <origin xyz="0.0393999998093 0.032 -0.0538389999948" rpy="0 0 0"/>
    <axis xyz="0.0 -1.61681e-10 -1.0"/>
    <parent link="lap_belt_1"/>
    <child link="lap_belt_2"/>
    <limit effort="50000" lower="-0.523598775598" upper="0.523598775598" velocity="50000"/>
    <dynamics damping="0.06"/>
  </joint>
  <link name="chest">
    <inertial>
      <origin xyz="-0.000635442809265 0.094882000002 -0.0123862999847" rpy="0 0 0"/>
      <mass value="9.71648"/>
      <inertia ixx="0.0489161" ixy="-6.26711e-05" ixz="-0.000115394" iyy="0.0629082" iyz="0.00259595" izz="0.0626678"/>
    </inertial>
    <visual>
      <origin xyz="0 -0.0519999999991 0.0308999999864" rpy="0 0 0"/>
      <geometry>
        <mesh filename="model://iCubHeidelberg01_model/dae_meshes/sim_kor_chest_prt.dae" scale="0.001 0.001 0.001"/>
      </geometry>
      <material name="green"/>
    </visual>
    <collision>
      <origin xyz="0 -0.0519999999991 0.0308999999864" rpy="0 0 0"/>
      <geometry>
        <mesh filename="model://iCubHeidelberg01_model/dae_meshes/sim_kor_chest_prt.dae" scale="0.001 0.001 0.001"/>
      </geometry>
    </collision>
  </link>
  <joint name="torso_yaw" type="revolute">
    <origin xyz="0 0.0519999999991 0.0593390000084" rpy="0 0 0"/>
    <axis xyz="0.0 -1.0 1.61681e-10"/>
    <parent link="lap_belt_2"/>
    <child link="chest"/>
    <limit effort="50000" lower="-0.872664625997" upper="0.872664625997" velocity="50000"/>
    <dynamics damping="0.06"/>
  </joint>
  <link name="imu_frame"/>
  <joint name="imu_frame_fixed_joint" type="fixed">
    <origin xyz="-0.0169999998093 0.100500000006 -0.0380999999838" rpy="3.14159265359 0 0"/>
    <parent link="chest"/>
    <child link="imu_frame"/>
    <dynamics damping="0.1"/>
  </joint>
  <link name="SCSYS_MTX_ACCEL_0"/>
  <joint name="SCSYS_MTX_ACCEL_0_fixed_joint" type="fixed">
    <origin xyz="-0.0169999998093 0.100500000006 -0.0380999999838" rpy="3.14159265359 0 0"/>
    <parent link="chest"/>
    <child link="SCSYS_MTX_ACCEL_0"/>
    <dynamics damping="0.1"/>
  </joint>
  <link name="WEIGHT-1KG-4">
    <inertial>
      <origin xyz="-1e-06 1.46e-05 -1e-06" rpy="0 0 0"/>
      <mass value="1.00161"/>
      <inertia ixx="0.0010891" ixy="3.14425e-08" ixz="0.0" iyy="0.00108866" iyz="4.73842e-08" izz="0.00213553"/>
    </inertial>
    <visual>
      <origin xyz="0 0 0" rpy="0 0 0"/>
      <geometry>
        <mesh filename="model://iCubHeidelberg01_model/dae_meshes/weight-1kg_prt.dae" scale="0.001 0.001 0.001"/>
      </geometry>
      <material name="WEIGHT-1KG-4_color">
        <color rgba="0.666667 0.666667 0.666667 1.0"/>
      </material>
    </visual>
    <collision>
      <origin xyz="0 0 0" rpy="0 0 0"/>
      <geometry>
        <mesh filename="model://iCubHeidelberg01_model/dae_meshes/weight-1kg_prt.dae" scale="0.001 0.001 0.001"/>
      </geometry>
    </collision>
  </link>
  <joint name="chest_weight_5" type="fixed">
    <origin xyz="-0.132249999809 0.0955 0" rpy="1.57079632679 0 1.57079632679"/>
    <parent link="chest"/>
    <child link="WEIGHT-1KG-4"/>
    <dynamics damping="0.1"/>
  </joint>
  <link name="WEIGHT-1KG-3">
    <inertial>
      <origin xyz="-1.137569265e-06 1.46000000002e-05 -9.99999997586e-07" rpy="0 0 0"/>
      <mass value="1.00161"/>
      <inertia ixx="0.0010891" ixy="3.14425e-08" ixz="0.0" iyy="0.00108866" iyz="4.73842e-08" izz="0.00213553"/>
    </inertial>
    <visual>
      <origin xyz="0 0 0" rpy="0 0 0"/>
      <geometry>
        <mesh filename="model://iCubHeidelberg01_model/dae_meshes/weight-1kg_prt.dae" scale="0.001 0.001 0.001"/>
      </geometry>
      <material name="WEIGHT-1KG-3_color">
        <color rgba="0.666667 0.666667 0.666667 1.0"/>
      </material>
    </visual>
    <collision>
      <origin xyz="0 0 0" rpy="0 0 0"/>
      <geometry>
        <mesh filename="model://iCubHeidelberg01_model/dae_meshes/weight-1kg_prt.dae" scale="0.001 0.001 0.001"/>
      </geometry>
    </collision>
  </link>
  <joint name="chest_weight_4" type="fixed">
    <origin xyz="0 0.22525 0" rpy="1.57079632679 0 0"/>
    <parent link="chest"/>
    <child link="WEIGHT-1KG-3"/>
    <dynamics damping="0.1"/>
  </joint>
  <link name="WEIGHT-1KG-5">
    <inertial>
      <origin xyz="-1e-06 1.46e-05 -1e-06" rpy="0 0 0"/>
      <mass value="1.00161"/>
      <inertia ixx="0.0010891" ixy="3.14425e-08" ixz="0.0" iyy="0.00108866" iyz="4.73842e-08" izz="0.00213553"/>
    </inertial>
    <visual>
      <origin xyz="0 0 0" rpy="0 0 0"/>
      <geometry>
        <mesh filename="model://iCubHeidelberg01_model/dae_meshes/weight-1kg_prt.dae" scale="0.001 0.001 0.001"/>
      </geometry>
      <material name="WEIGHT-1KG-5_color">
        <color rgba="0.666667 0.666667 0.666667 1.0"/>
      </material>
    </visual>
    <collision>
      <origin xyz="0 0 0" rpy="0 0 0"/>
      <geometry>
        <mesh filename="model://iCubHeidelberg01_model/dae_meshes/weight-1kg_prt.dae" scale="0.001 0.001 0.001"/>
      </geometry>
    </collision>
  </link>
  <joint name="chest_weight_6" type="fixed">
    <origin xyz="-0.150749999809 0.0955 0" rpy="1.57079632679 0 1.57079632679"/>
    <parent link="chest"/>
    <child link="WEIGHT-1KG-5"/>
    <dynamics damping="0.1"/>
  </joint>
  <link name="WEIGHT-1KG">
    <inertial>
      <origin xyz="-1.00000000003e-06 1.46e-05 -1e-06" rpy="0 0 0"/>
      <mass value="1.00161"/>
      <inertia ixx="0.0010891" ixy="3.14425e-08" ixz="0.0" iyy="0.00108866" iyz="4.73842e-08" izz="0.00213553"/>
    </inertial>
    <visual>
      <origin xyz="0 0 0" rpy="0 0 0"/>
      <geometry>
        <mesh filename="model://iCubHeidelberg01_model/dae_meshes/weight-1kg_prt.dae" scale="0.001 0.001 0.001"/>
      </geometry>
      <material name="WEIGHT-1KG_color">
        <color rgba="0.666667 0.666667 0.666667 1.0"/>
      </material>
    </visual>
    <collision>
      <origin xyz="0 0 0" rpy="0 0 0"/>
      <geometry>
        <mesh filename="model://iCubHeidelberg01_model/dae_meshes/weight-1kg_prt.dae" scale="0.001 0.001 0.001"/>
      </geometry>
    </collision>
  </link>
  <joint name="chest_weight_1" type="fixed">
    <origin xyz="0.132250000191 0.0955 0" rpy="1.57079632679 0 -1.57079632679"/>
    <parent link="chest"/>
    <child link="WEIGHT-1KG"/>
    <dynamics damping="0.1"/>
  </joint>
  <link name="WEIGHT-1KG-2">
    <inertial>
      <origin xyz="-1.137569265e-06 1.46000000002e-05 -9.99999997642e-07" rpy="0 0 0"/>
      <mass value="1.00161"/>
      <inertia ixx="0.0010891" ixy="3.14425e-08" ixz="0.0" iyy="0.00108866" iyz="4.73842e-08" izz="0.00213553"/>
    </inertial>
    <visual>
      <origin xyz="0 0 0" rpy="0 0 0"/>
      <geometry>
        <mesh filename="model://iCubHeidelberg01_model/dae_meshes/weight-1kg_prt.dae" scale="0.001 0.001 0.001"/>
      </geometry>
      <material name="WEIGHT-1KG-2_color">
        <color rgba="0.666667 0.666667 0.666667 1.0"/>
      </material>
    </visual>
    <collision>
      <origin xyz="0 0 0" rpy="0 0 0"/>
      <geometry>
        <mesh filename="model://iCubHeidelberg01_model/dae_meshes/weight-1kg_prt.dae" scale="0.001 0.001 0.001"/>
      </geometry>
    </collision>
  </link>
  <joint name="chest_weight_3" type="fixed">
    <origin xyz="0 0.20675 0" rpy="1.57079632679 0 0"/>
    <parent link="chest"/>
    <child link="WEIGHT-1KG-2"/>
    <dynamics damping="0.1"/>
  </joint>
  <link name="WEIGHT-1KG-1">
    <inertial>
      <origin xyz="-1.00000000003e-06 1.46e-05 -1e-06" rpy="0 0 0"/>
      <mass value="1.00161"/>
      <inertia ixx="0.0010891" ixy="3.14425e-08" ixz="0.0" iyy="0.00108866" iyz="4.73842e-08" izz="0.00213553"/>
    </inertial>
    <visual>
      <origin xyz="0 0 0" rpy="0 0 0"/>
      <geometry>
        <mesh filename="model://iCubHeidelberg01_model/dae_meshes/weight-1kg_prt.dae" scale="0.001 0.001 0.001"/>
      </geometry>
      <material name="WEIGHT-1KG-1_color">
        <color rgba="0.666667 0.666667 0.666667 1.0"/>
      </material>
    </visual>
    <collision>
      <origin xyz="0 0 0" rpy="0 0 0"/>
      <geometry>
        <mesh filename="model://iCubHeidelberg01_model/dae_meshes/weight-1kg_prt.dae" scale="0.001 0.001 0.001"/>
      </geometry>
    </collision>
  </link>
  <joint name="chest_weight_2" type="fixed">
    <origin xyz="0.150750000191 0.0955 0" rpy="1.57079632679 0 -1.57079632679"/>
    <parent link="chest"/>
    <child link="WEIGHT-1KG-1"/>
    <dynamics damping="0.1"/>
  </joint>
</robot>
